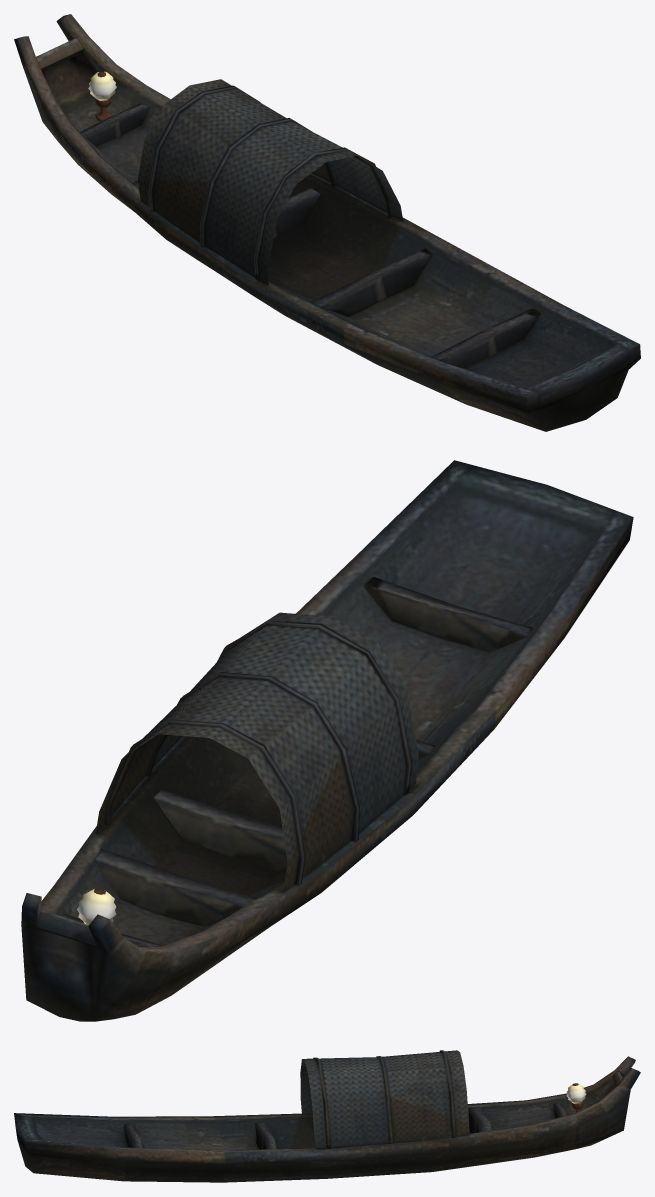
File: dachuan.fbx
3 renders of one model, top to bottom at view 1: azimuth 30°, elevation 25°; view 2: azimuth 150°, elevation 25°; view 3: azimuth 270°, elevation 25°, orthographic. The views are drawn at different scales.
Parts seen in each view (by area): view 1: TY_object_040, pasted__pCube4; view 2: TY_object_040, pasted__pCube4; view 3: TY_object_040, pasted__pCube4.
Part boxes in pixels (left/top/right/bottom): TY_object_040: left=14, top=14, right=640, bottom=431; pasted__pCube4: left=88, top=71, right=116, bottom=121; TY_object_040: left=21, top=460, right=633, bottom=1021; pasted__pCube4: left=77, top=888, right=116, bottom=924; TY_object_040: left=14, top=1050, right=640, bottom=1182; pasted__pCube4: left=566, top=1083, right=586, bottom=1111.
Bounding box in the file's own units: 2.01 × 1.6 × 8.13.
Materials: 2 (2 with a texture image).
